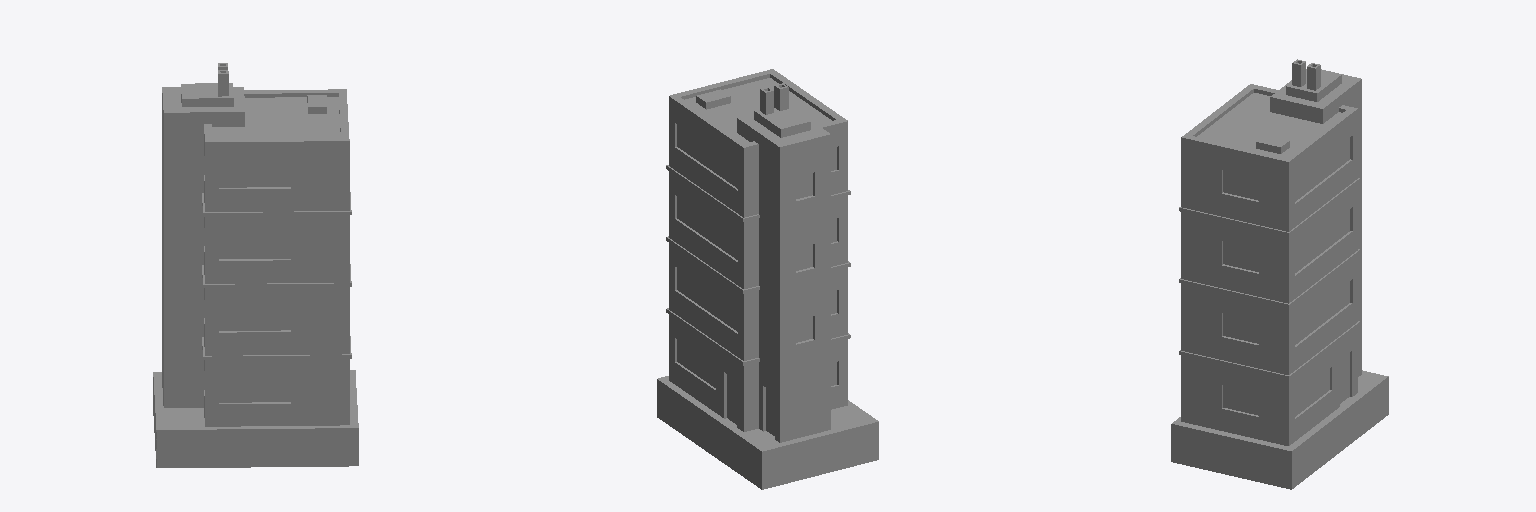
The model's file is BuildingOBJ1.obj.
The picture shows the model from 3 angles: view 1: azimuth 30°, elevation 25°; view 2: azimuth 150°, elevation 25°; view 3: azimuth 270°, elevation 25°; orthographic projection.
Visible parts, largest first — view 1: cabin_004.007_Untitled.002; view 2: cabin_004.007_Untitled.002; view 3: cabin_004.007_Untitled.002.
Part boxes in pixels (bbox=[...]): cabin_004.007_Untitled.002: bbox=[153, 63, 358, 467]; cabin_004.007_Untitled.002: bbox=[657, 69, 878, 489]; cabin_004.007_Untitled.002: bbox=[1171, 59, 1388, 489].
Bounding box in the file's own units: 3.73 × 6.17 × 3.33.